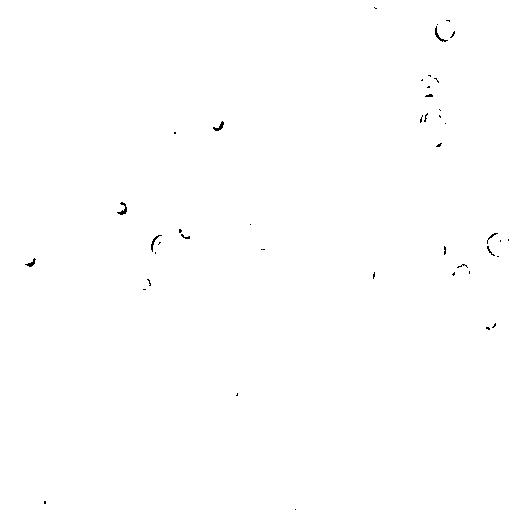micro-algae: (50, 106, 173, 229), (165, 1, 325, 79), (314, 413, 409, 511), (183, 36, 261, 113), (3, 83, 57, 155), (339, 415, 396, 475), (251, 216, 305, 267), (426, 130, 473, 177), (9, 135, 51, 174), (398, 74, 437, 116), (81, 260, 118, 298), (415, 105, 452, 137), (442, 322, 472, 355), (257, 445, 287, 475), (27, 485, 61, 511), (411, 71, 442, 99), (152, 233, 179, 263), (49, 446, 75, 477), (474, 11, 503, 38), (485, 229, 511, 259), (409, 307, 435, 335), (342, 17, 371, 41), (329, 329, 355, 355), (41, 9, 66, 35), (187, 103, 210, 131), (479, 488, 507, 511), (449, 261, 472, 287), (433, 19, 457, 43), (433, 139, 457, 163), (133, 251, 158, 274), (175, 219, 199, 242), (489, 76, 511, 99), (3, 270, 22, 292), (183, 187, 203, 207), (18, 246, 37, 267), (167, 123, 186, 144), (245, 219, 264, 240), (430, 240, 449, 261), (285, 495, 309, 511), (478, 312, 498, 331), (17, 424, 37, 443), (207, 113, 226, 132), (362, 263, 379, 284), (497, 142, 511, 167), (222, 381, 241, 399), (114, 198, 131, 215), (257, 237, 273, 251), (503, 397, 511, 421), (367, 0, 388, 9), (139, 277, 152, 291)
